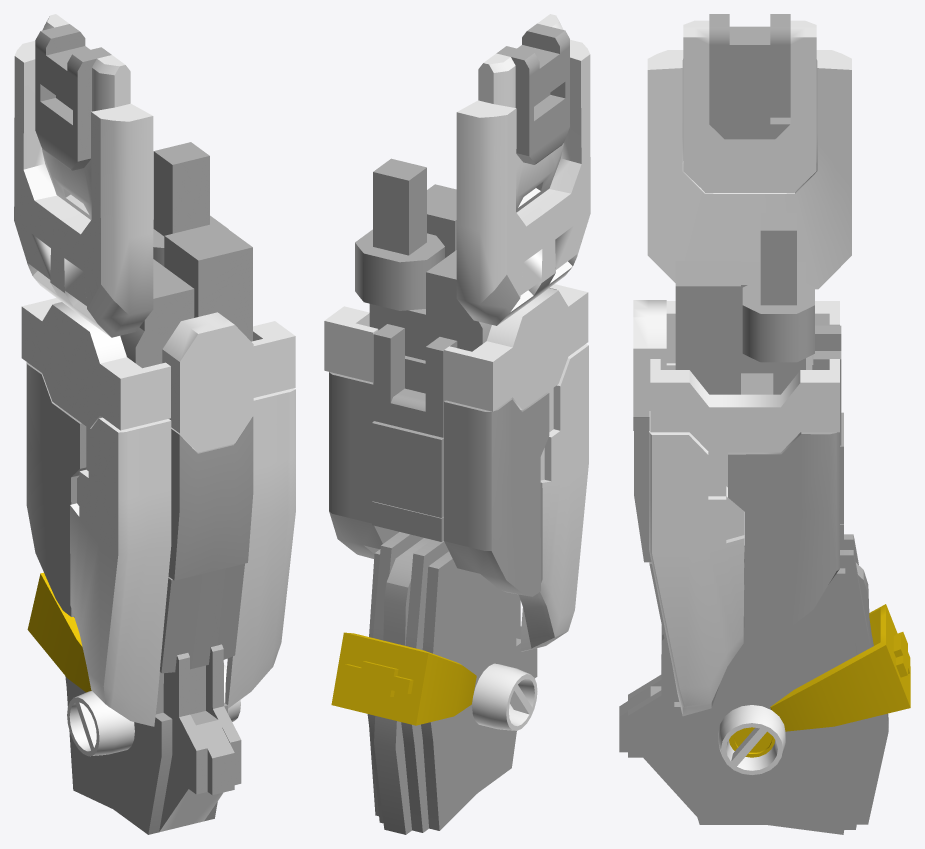
Rendered from urightleg.fbx.
The picture shows the model from 3 angles, left to right: view 1: azimuth 30°, elevation 25°; view 2: azimuth 150°, elevation 25°; view 3: azimuth 270°, elevation 25°; orthographic projection. The views are drawn at different scales.
Visible parts, largest first — view 1: urightleg; view 2: urightleg; view 3: urightleg.
Part boxes in pixels (x1,y1,x2,y2): urightleg: (14, 14, 295, 834); urightleg: (324, 14, 590, 834); urightleg: (619, 14, 910, 834).
Bounding box in the file's own units: 256 × 1033 × 358.
